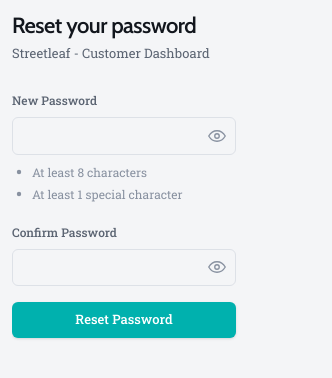
Test: ResetPasswordForm › shows 'Passwords match.' live once both fields are identical
In the password field labelled "New Password": (124, 136) [12,117,236,154], type "Pass.123"
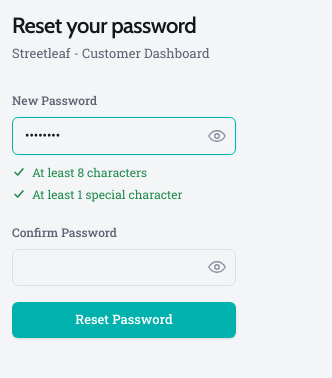
In the password field labelled "Confirm Password": (124, 267) [12,248,236,286], type "Pass.123"
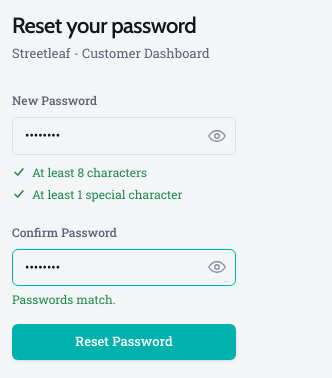
Expected: the text "Passwords match." is shown, [12,291,116,307]
